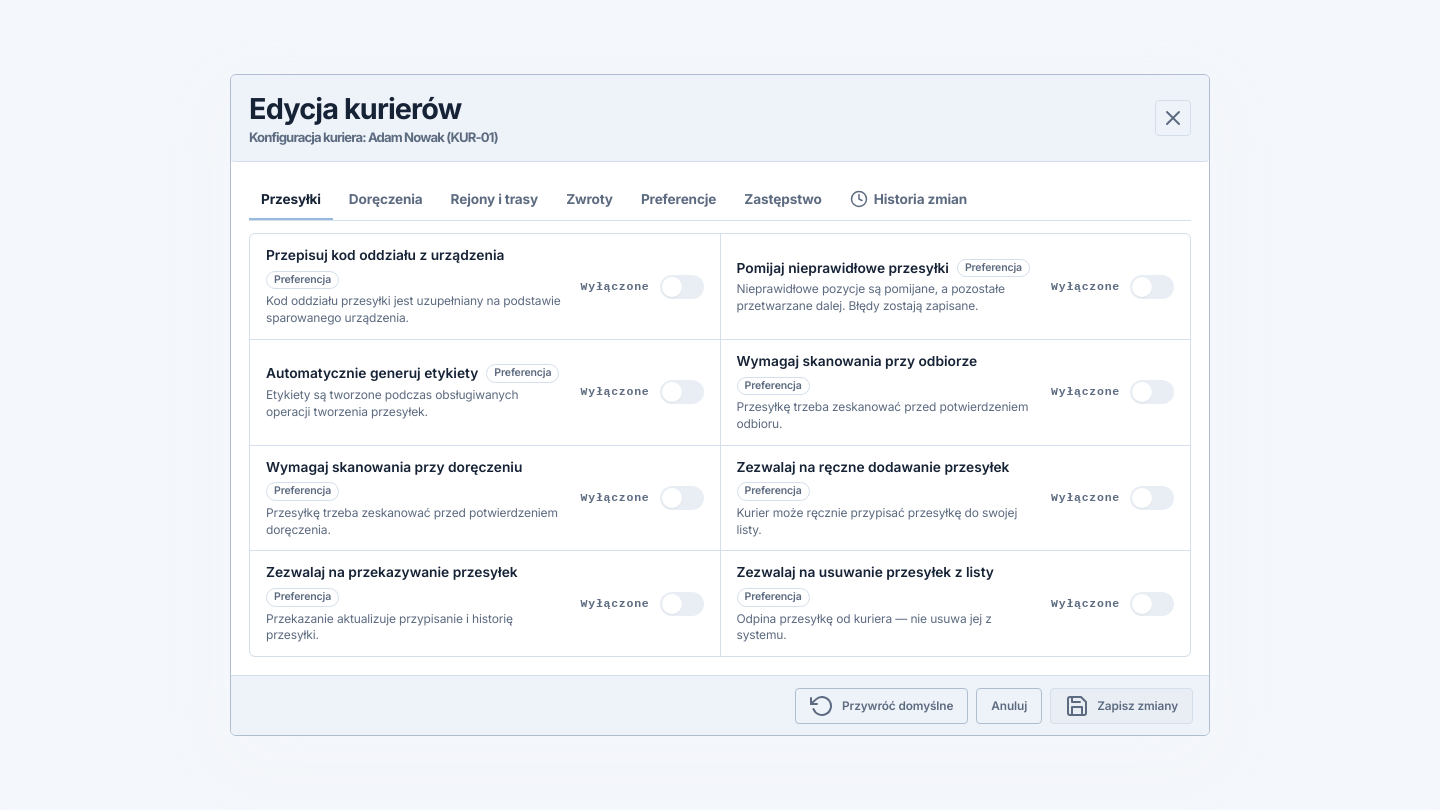
CourierConfigurationDialog › informs about a concurrent modification
The width and height of the screenshot is (1440, 810).
Click the checkbox named "Automatycznie generuj etykiety": [642, 392] box [581, 380, 704, 404]
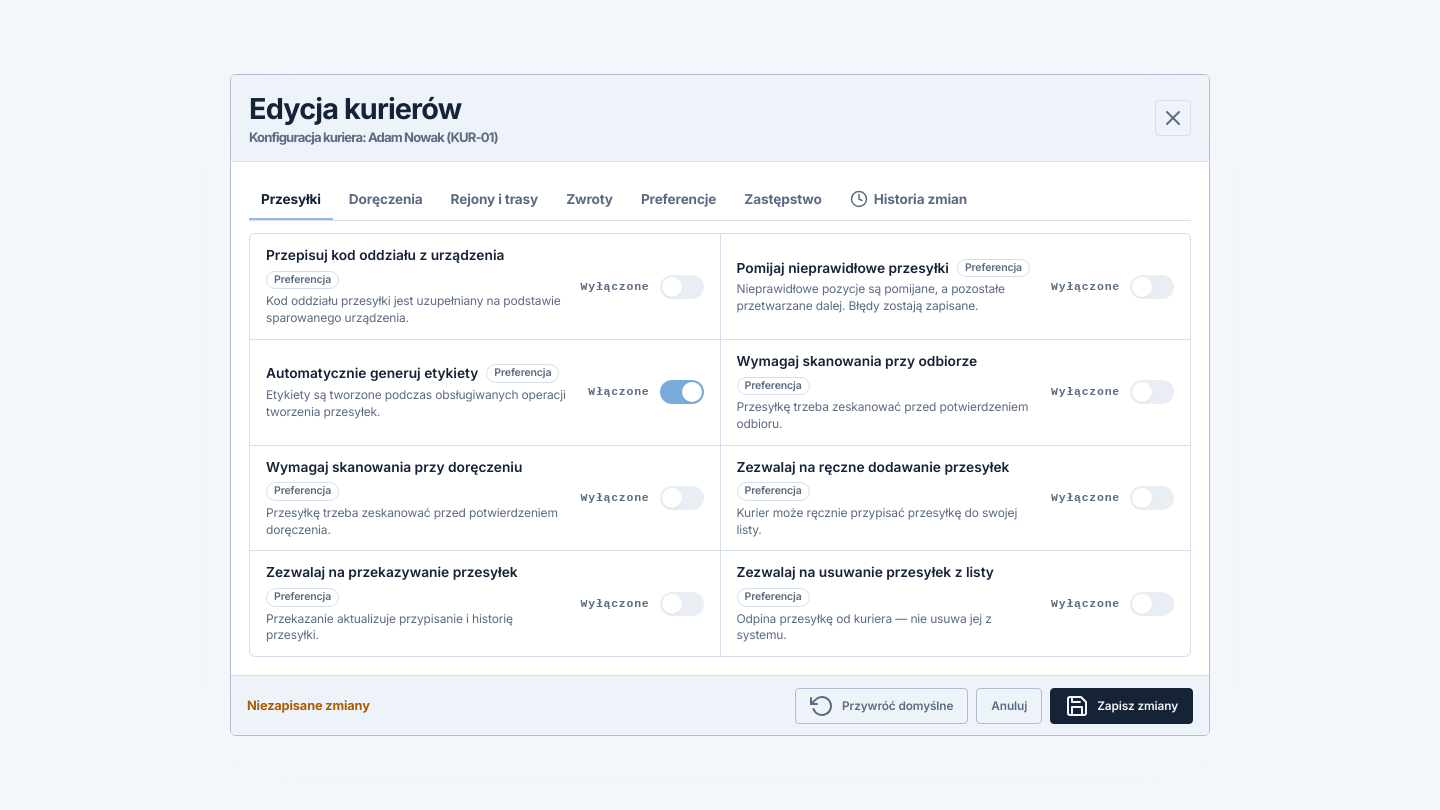
Click the button "Zapisz zmiany": [1122, 706] box [1050, 688, 1193, 724]
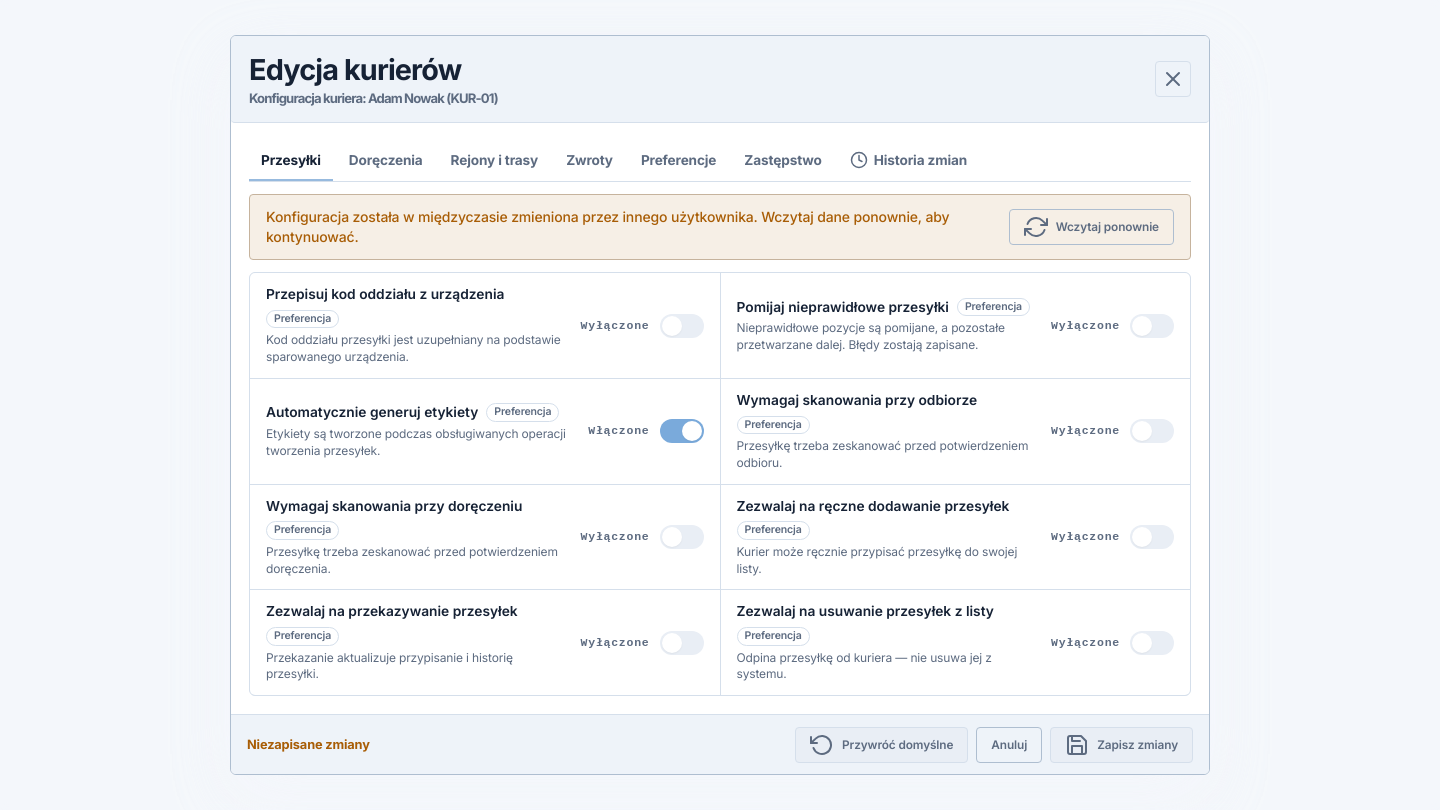
Now the text "Konfiguracja została w międzyczasie zmieniona przez innego użytkownika. Wczytaj dane ponownie, aby kontynuować." is shown, box [266, 208, 949, 245]
